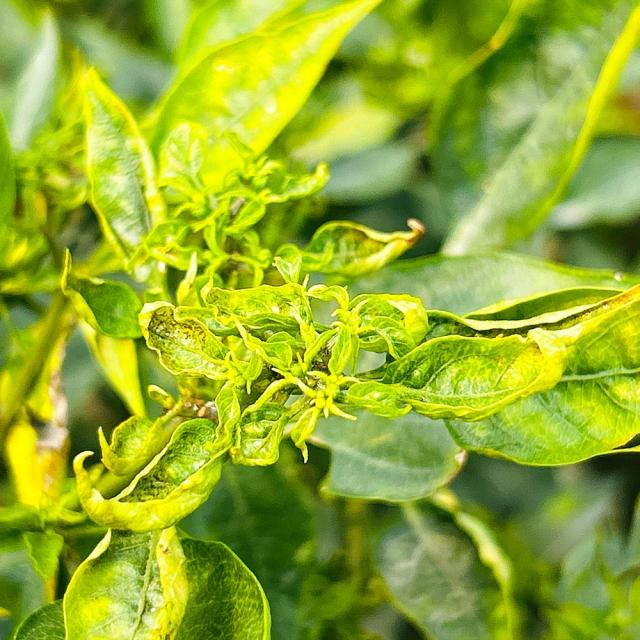Chilli_Leaf_Curl: (1, 0, 638, 638), (72, 258, 638, 533), (61, 525, 272, 639), (71, 411, 228, 532)
